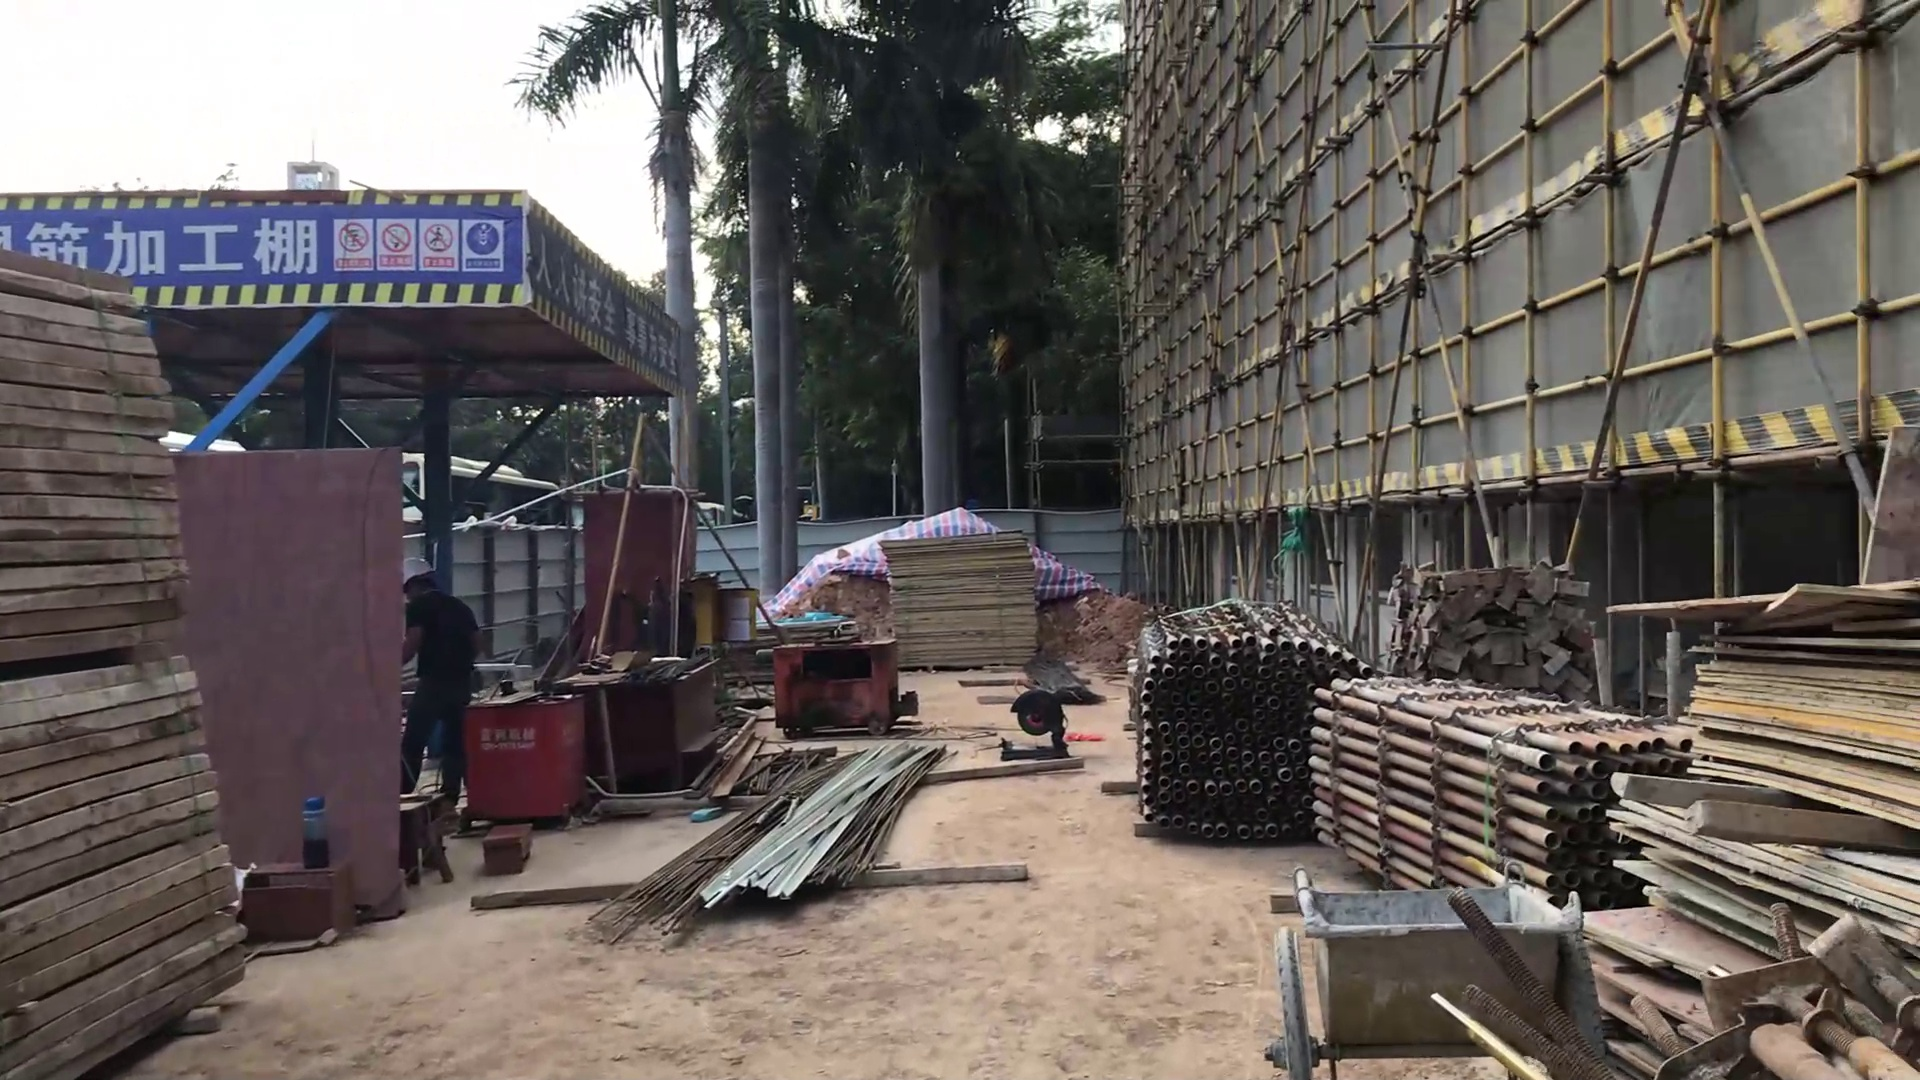board: (1600, 578, 1920, 969), (881, 519, 1048, 688)
cutter: (998, 681, 1076, 767)
handcart: (1255, 878, 1648, 1080)
helmet: (399, 554, 439, 588)
person: (393, 548, 488, 825)
scaffold: (1291, 659, 1703, 933), (1124, 588, 1350, 843)
slogan: (526, 193, 676, 400)
wood: (1, 638, 272, 1058), (1, 236, 215, 671)
